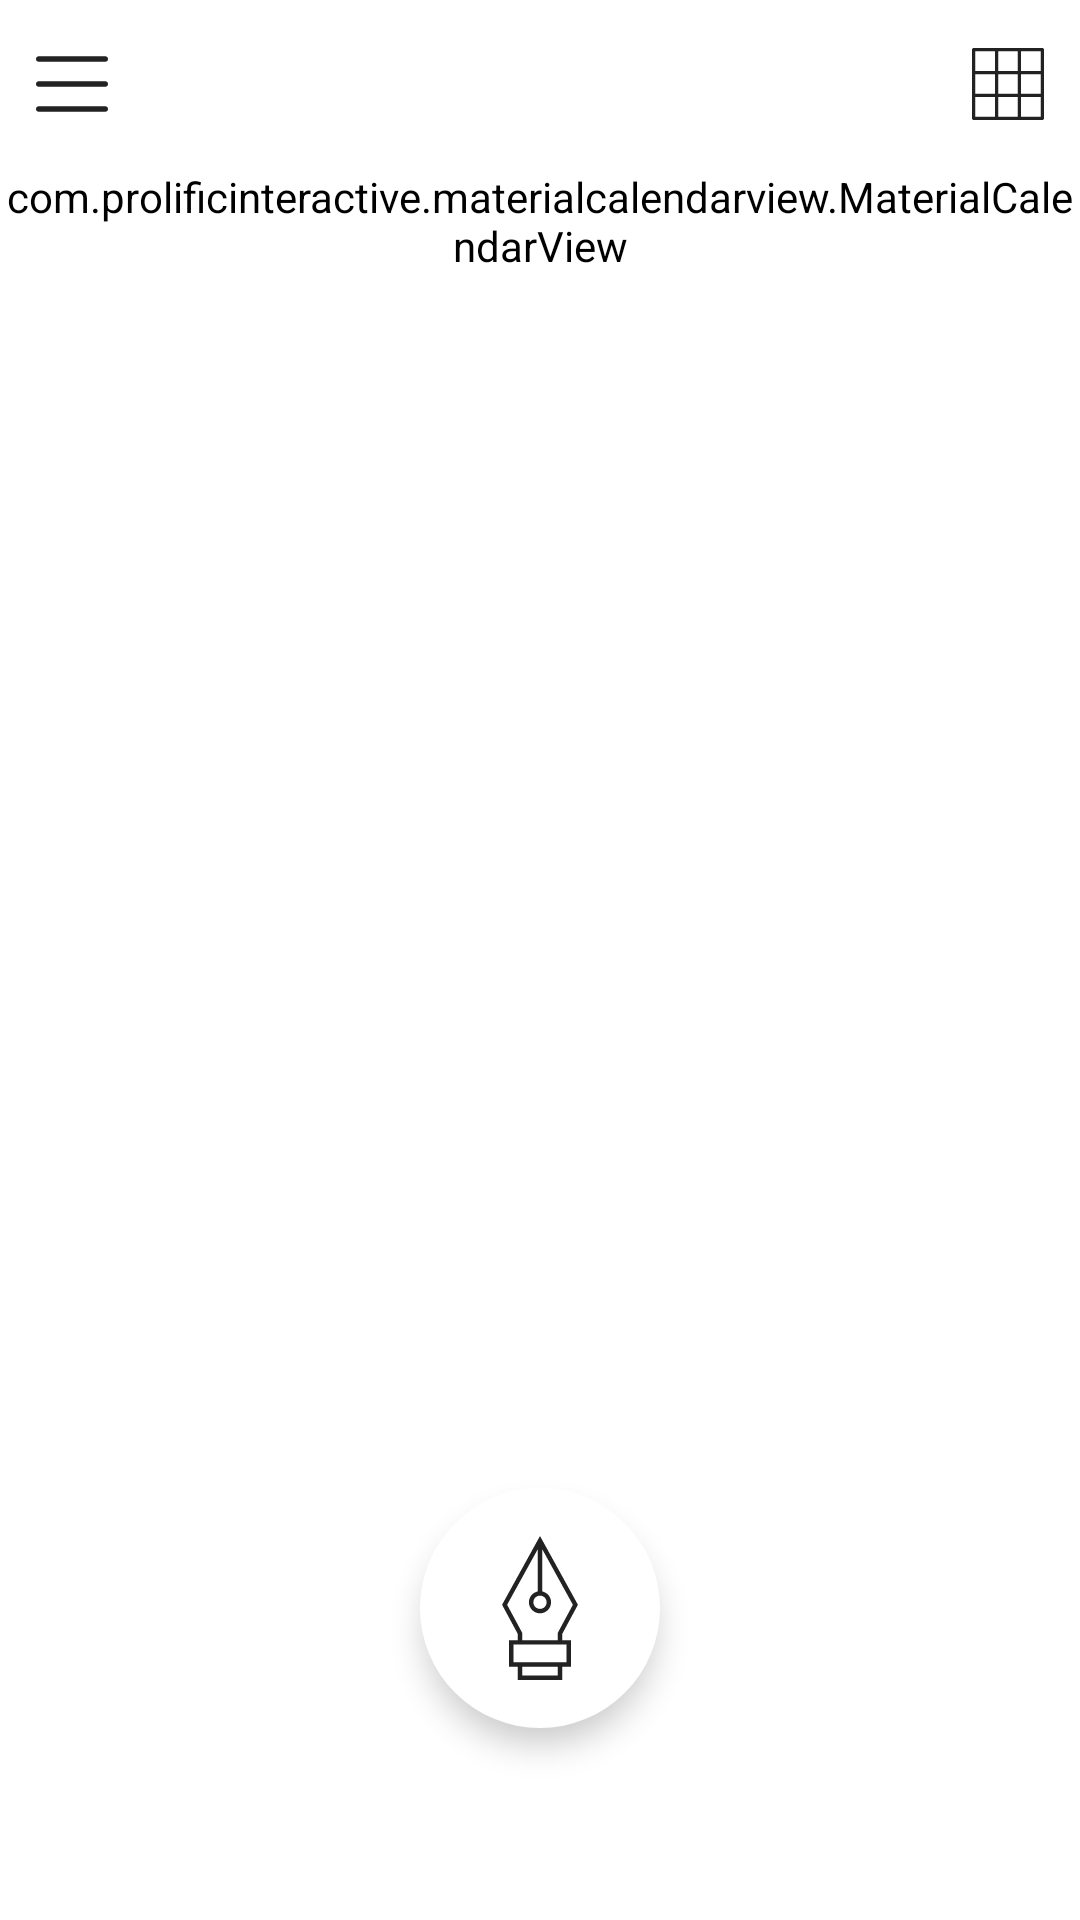

Locate icon controls on the screen. Image size 1080px x 1920px, boxes as detection(x1, y1, x2, y2).
fountain pen: detection(502, 1536, 578, 1680)
hamburger: detection(36, 56, 108, 112)
table: detection(972, 48, 1044, 120)
